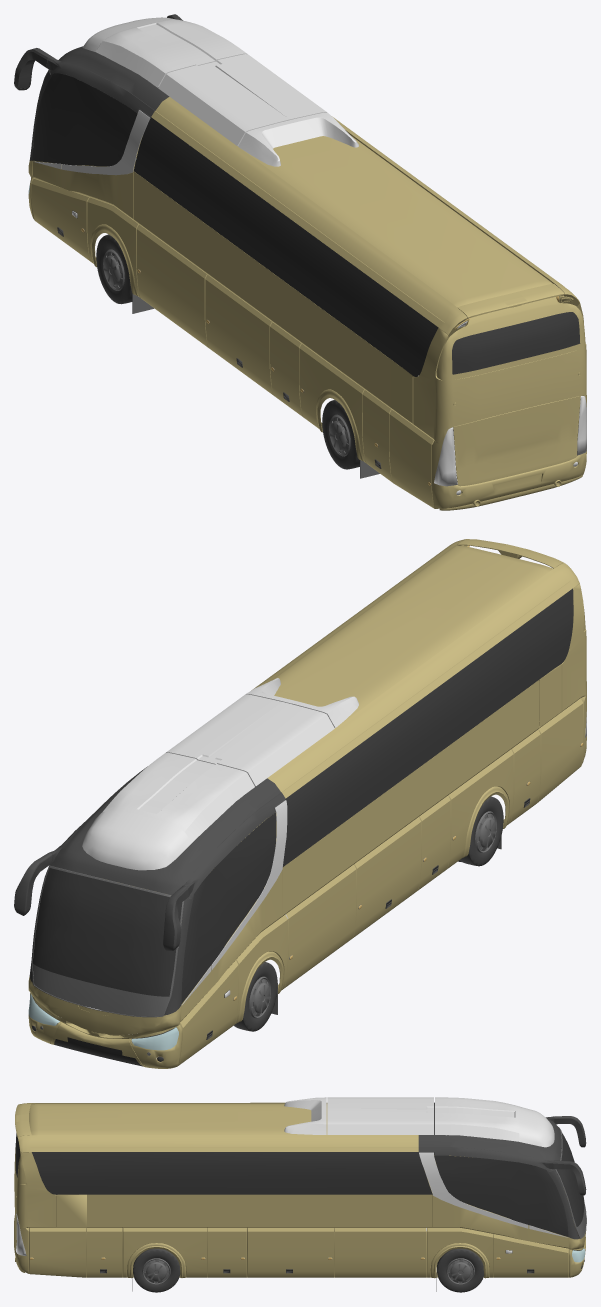
The model's file is Bus_big.glb.
3 renders of one model, top to bottom at view 1: azimuth 30°, elevation 25°; view 2: azimuth 150°, elevation 25°; view 3: azimuth 270°, elevation 25°, orthographic. The views are drawn at different scales.
Visible parts, largest first — view 1: Bus_01; view 2: Bus_01; view 3: Bus_01.
Boxes of the visible parts, x1,y1,x2,y2 form: Bus_01: (14,14,586,510); Bus_01: (14,539,586,1068); Bus_01: (14,1097,586,1292).
Size of the model in its own units: 2.83 by 3.94 by 12.86.
